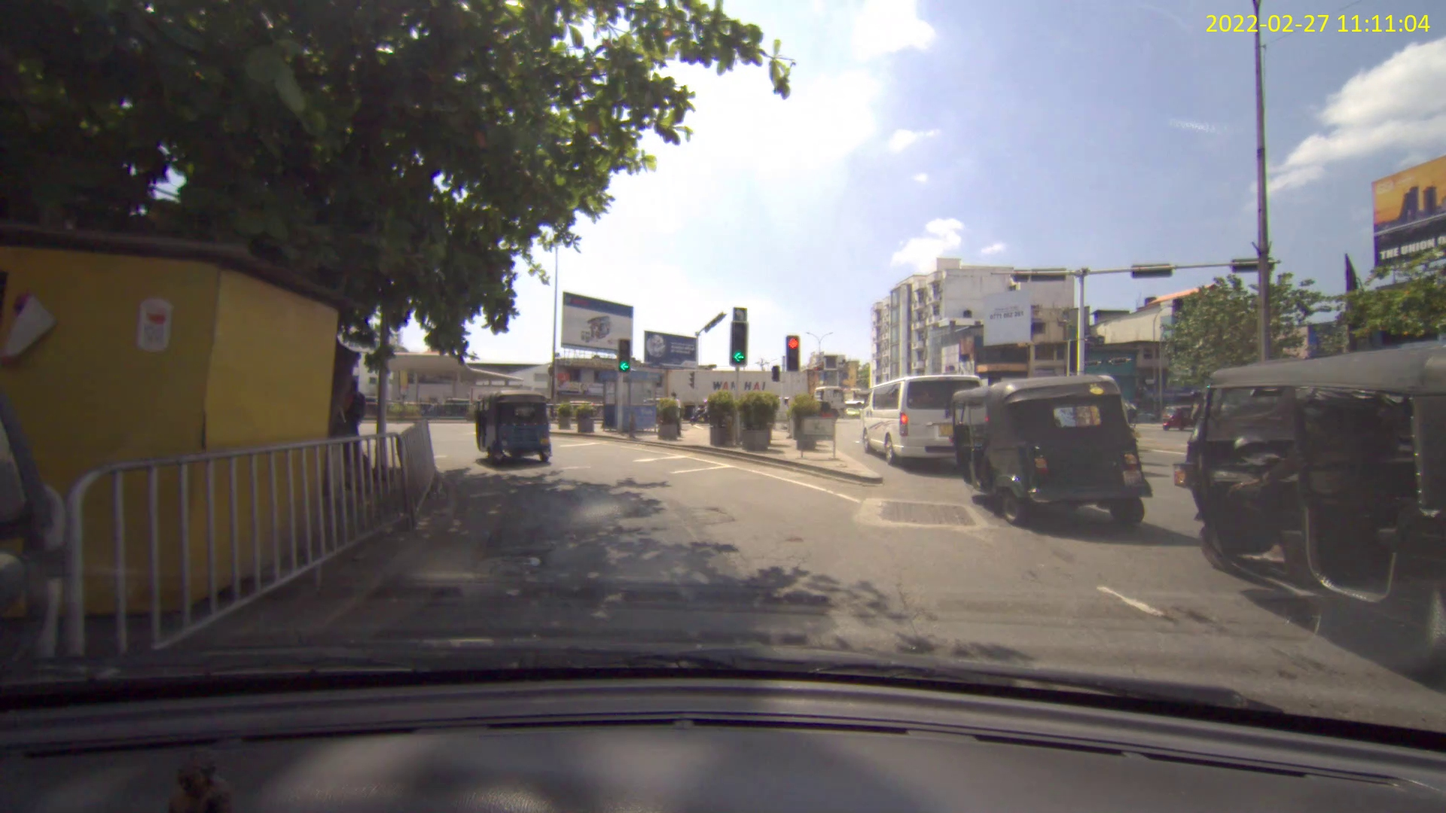green: (729, 321, 748, 366), (617, 337, 630, 373)
